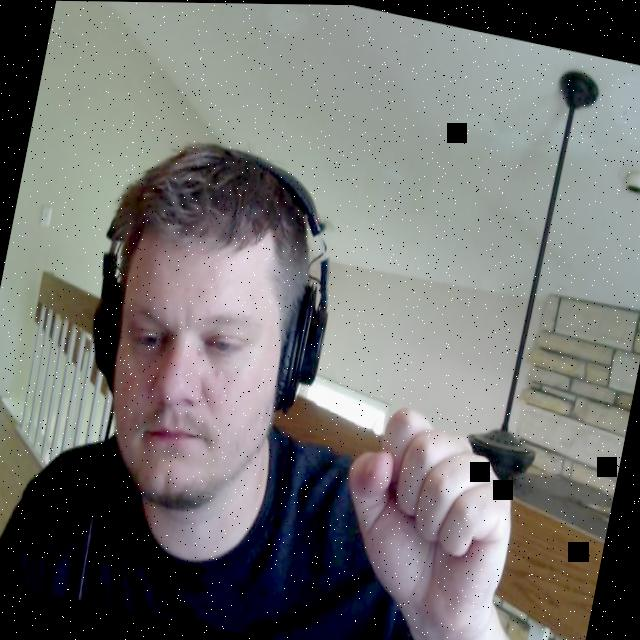Rock: (322, 395, 536, 640)
